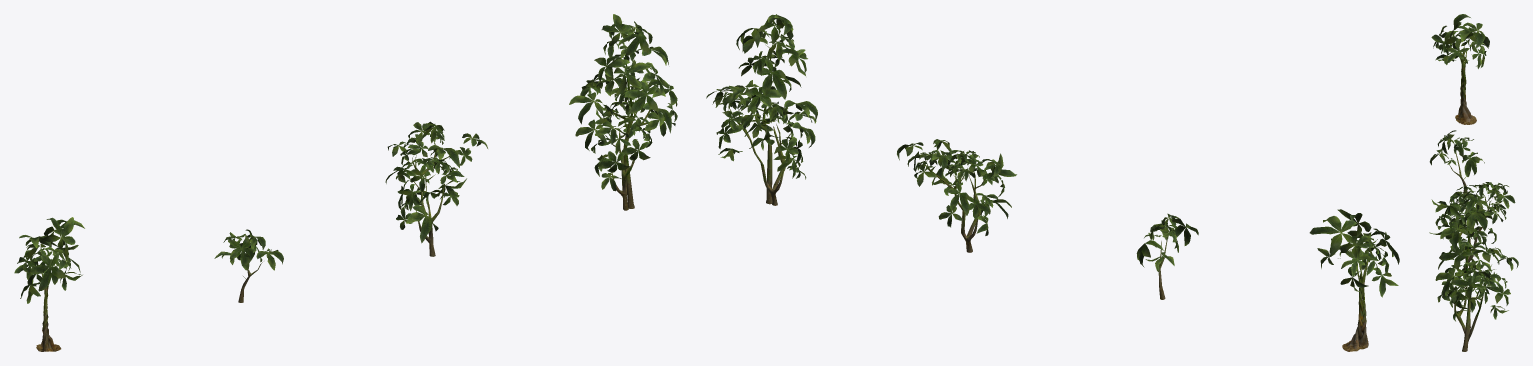
The model's file is pachira_aquatica_01.glb.
The picture shows the model from 3 angles, left to right: view 1: azimuth 30°, elevation 25°; view 2: azimuth 150°, elevation 25°; view 3: azimuth 270°, elevation 25°; orthographic projection. The views are drawn at different scales.
Visible parts, largest first — view 1: pachira_aquatica_01_leaves_a, pachira_aquatica_01_bark_a; view 2: pachira_aquatica_01_leaves_a, pachira_aquatica_01_bark_a; view 3: pachira_aquatica_01_leaves_a, pachira_aquatica_01_bark_a.
Part boxes in pixels (box(x1,y1,x2,y2)): pachira_aquatica_01_leaves_a: box(14, 14, 677, 303); pachira_aquatica_01_bark_a: box(36, 48, 652, 351); pachira_aquatica_01_leaves_a: box(706, 14, 1399, 297); pachira_aquatica_01_bark_a: box(728, 44, 1368, 351); pachira_aquatica_01_leaves_a: box(1429, 14, 1518, 321); pachira_aquatica_01_bark_a: box(1449, 48, 1496, 351).
Bounding box in the file's own units: 6.87 × 1.9 × 0.997.
2 materials, 2 textured.
